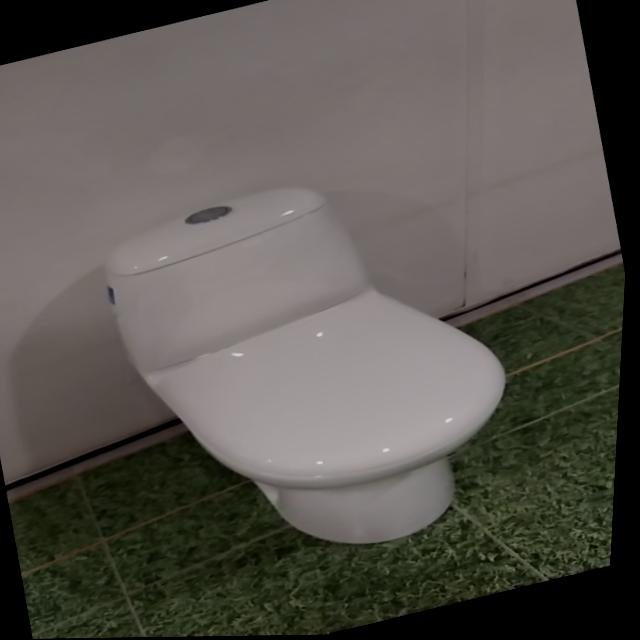toilet: (83, 141, 552, 597)
